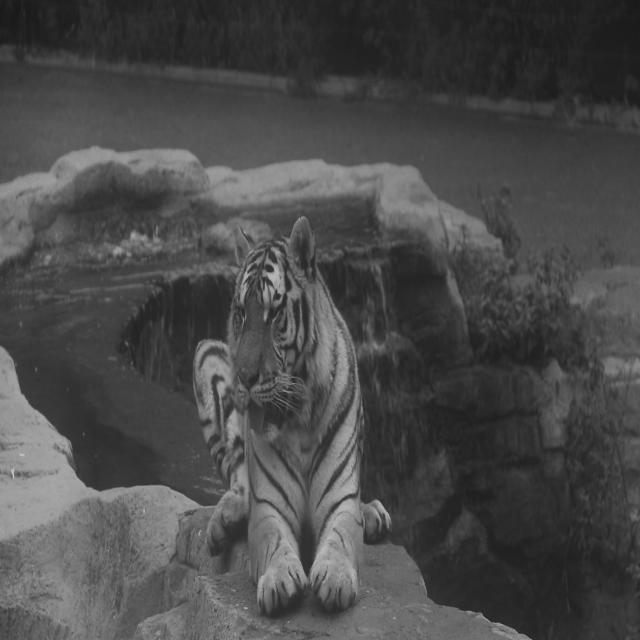Tiger: (192, 214, 392, 617)
